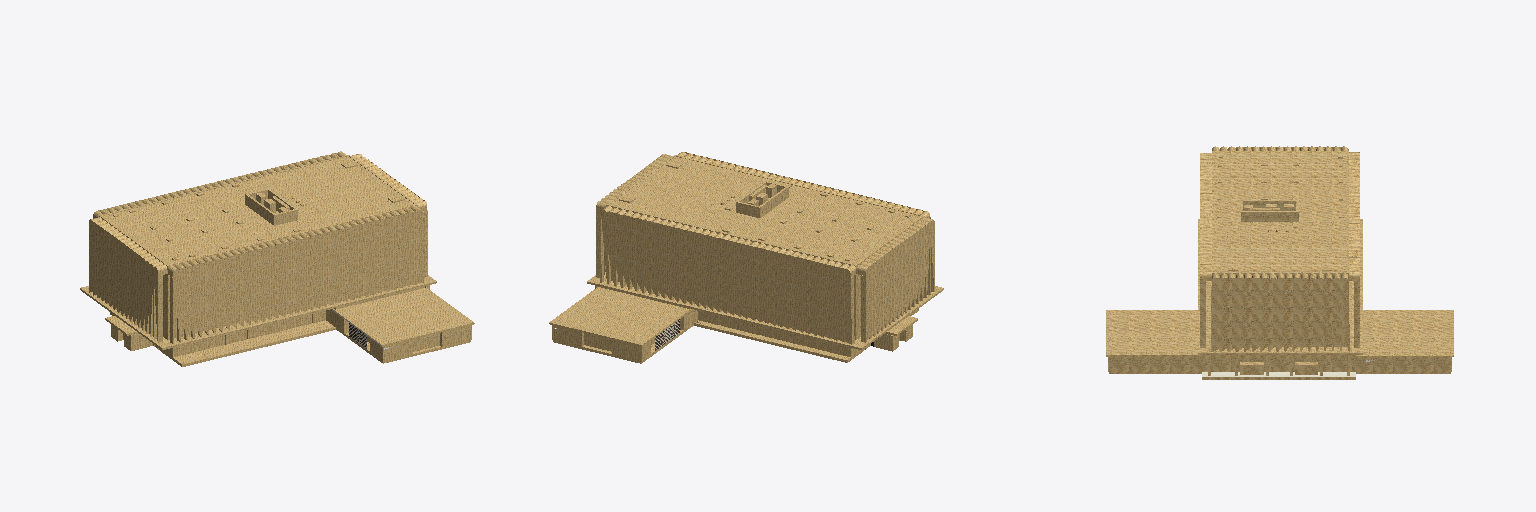
3 renders of one model, left to right at view 1: azimuth 30°, elevation 25°; view 2: azimuth 150°, elevation 25°; view 3: azimuth 270°, elevation 25°, orthographic.
Parts seen in each view (by area): view 1: Mesh26 Component_1_1 Component_4_1 Model, Mesh4 Component_2_2 Component_1_1 Component_4_1 Model, Mesh2 Component_3_1 Component_1_1 Component_4_1 Model, Mesh1 Component_2_1 Component_1_1 Component_4_1 Model, Mesh3 Component_3_2 Component_1_1 Component_4_1 Model; view 2: Mesh26 Component_1_1 Component_4_1 Model, Mesh1 Component_2_1 Component_1_1 Component_4_1 Model, Mesh2 Component_3_1 Component_1_1 Component_4_1 Model, Mesh4 Component_2_2 Component_1_1 Component_4_1 Model, Mesh3 Component_3_2 Component_1_1 Component_4_1 Model; view 3: Mesh26 Component_1_1 Component_4_1 Model, Mesh3 Component_3_2 Component_1_1 Component_4_1 Model, Mesh4 Component_2_2 Component_1_1 Component_4_1 Model, Mesh1 Component_2_1 Component_1_1 Component_4_1 Model, Mesh2 Component_3_1 Component_1_1 Component_4_1 Model.
Part boxes in pixels (bbox=[...]): Mesh26 Component_1_1 Component_4_1 Model: bbox=[80, 155, 474, 366]; Mesh4 Component_2_2 Component_1_1 Component_4_1 Model: bbox=[168, 206, 423, 343]; Mesh2 Component_3_1 Component_1_1 Component_4_1 Model: bbox=[89, 217, 167, 342]; Mesh1 Component_2_1 Component_1_1 Component_4_1 Model: bbox=[93, 151, 345, 218]; Mesh3 Component_3_2 Component_1_1 Component_4_1 Model: bbox=[352, 154, 427, 277]; Mesh26 Component_1_1 Component_4_1 Model: bbox=[549, 155, 943, 363]; Mesh1 Component_2_1 Component_1_1 Component_4_1 Model: bbox=[600, 206, 855, 344]; Mesh2 Component_3_1 Component_1_1 Component_4_1 Model: bbox=[856, 217, 934, 342]; Mesh4 Component_2_2 Component_1_1 Component_4_1 Model: bbox=[678, 152, 930, 218]; Mesh3 Component_3_2 Component_1_1 Component_4_1 Model: bbox=[596, 154, 671, 277]; Mesh26 Component_1_1 Component_4_1 Model: bbox=[1106, 151, 1453, 379]; Mesh3 Component_3_2 Component_1_1 Component_4_1 Model: bbox=[1211, 273, 1349, 351]; Mesh4 Component_2_2 Component_1_1 Component_4_1 Model: bbox=[1200, 153, 1211, 347]; Mesh1 Component_2_1 Component_1_1 Component_4_1 Model: bbox=[1349, 152, 1359, 347]; Mesh2 Component_3_1 Component_1_1 Component_4_1 Model: bbox=[1212, 146, 1348, 150].
Bounding box in the file's own units: 4451 × 1686 × 4794.
Materials: 8 (7 with a texture image).